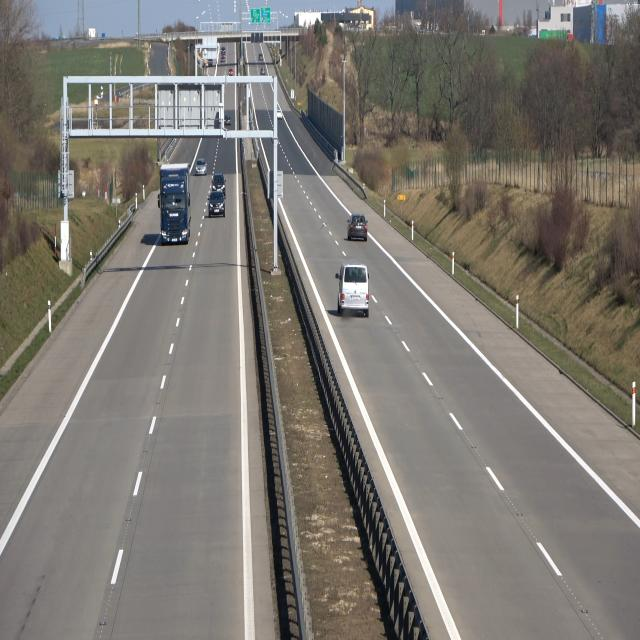Car: (158, 161, 193, 244), (336, 261, 372, 320), (346, 212, 369, 243), (205, 190, 226, 220), (209, 171, 229, 196), (195, 156, 208, 180)
